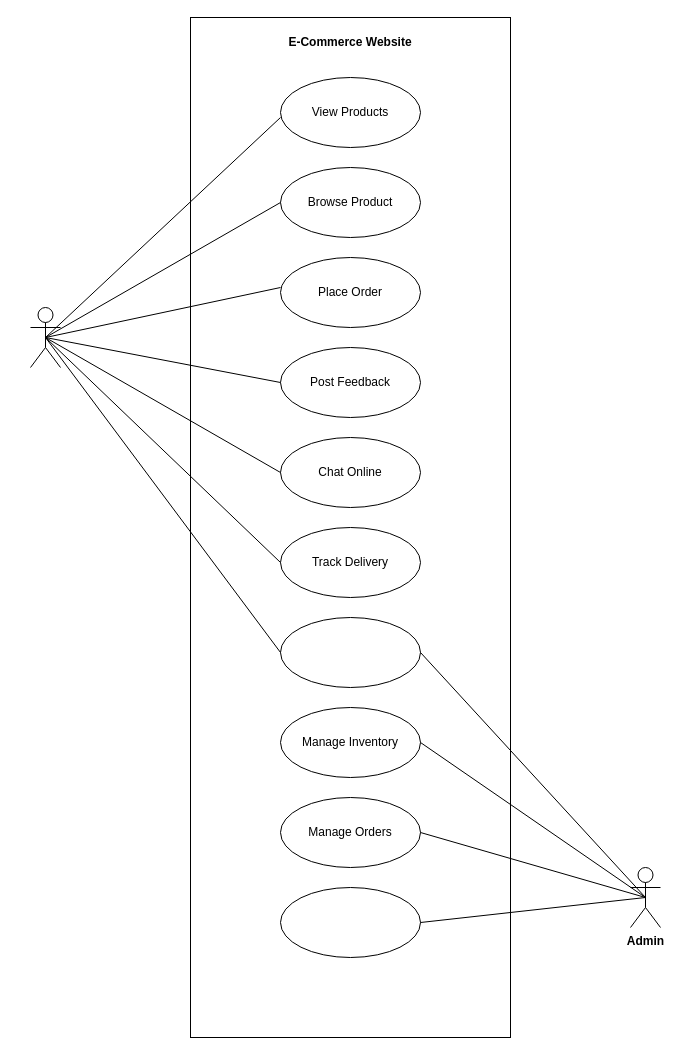
Some shapes in this 681 by 1055 pixel diagram are drawn without their labels. Here are the shapes that lost their labels. From the top down, the box of each, then its label:
(30, 306, 60, 368): Customer
(280, 616, 420, 688): Login
(280, 886, 420, 958): Manage User Accounts
